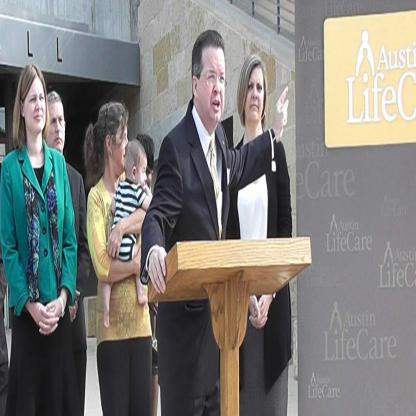face: (198, 48, 226, 124), (24, 77, 47, 133), (245, 67, 265, 123), (47, 102, 66, 153), (113, 122, 130, 172), (136, 161, 148, 189)
